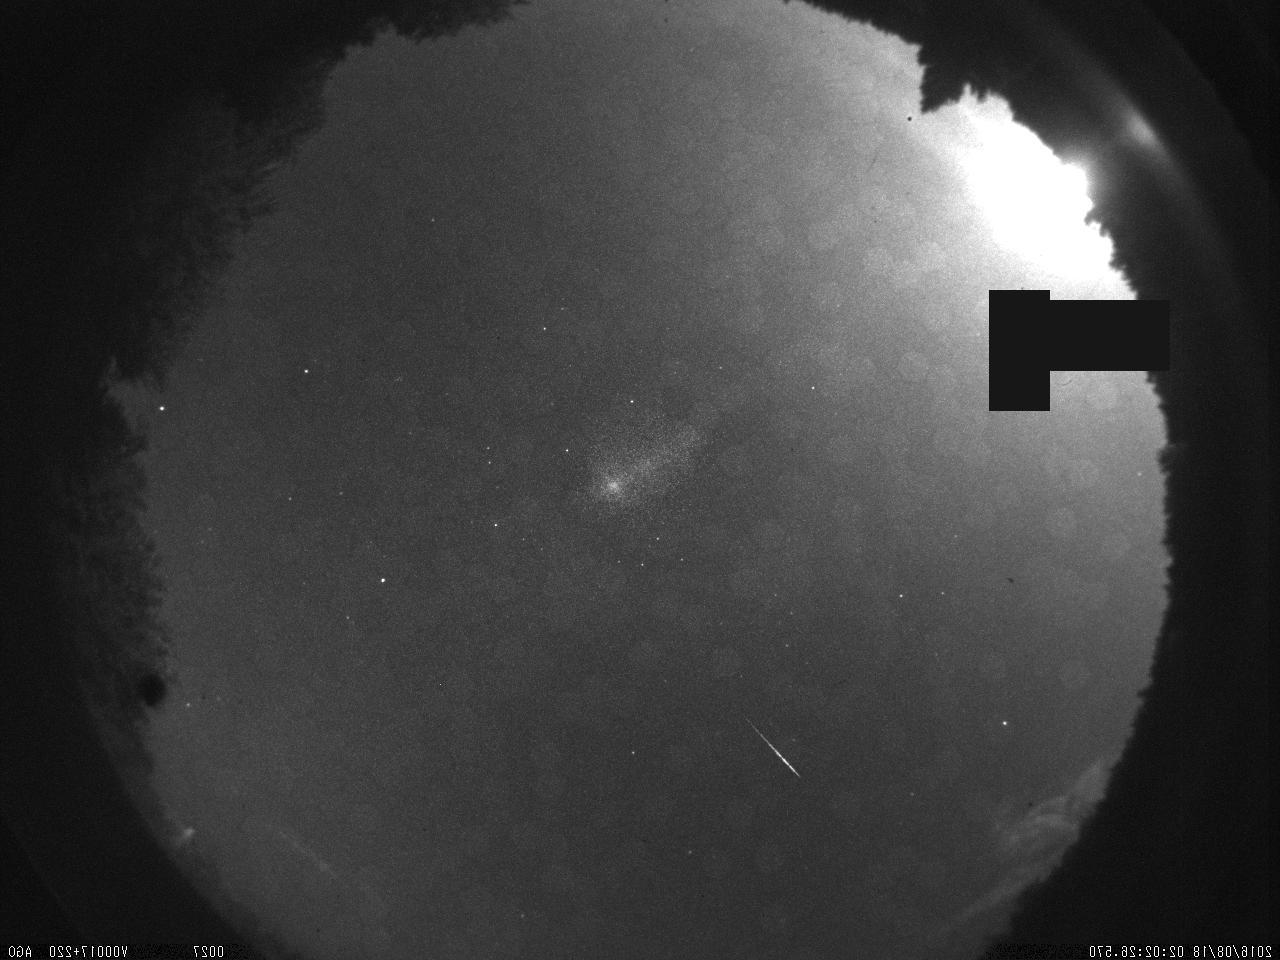meteor: (731, 709, 809, 788)
